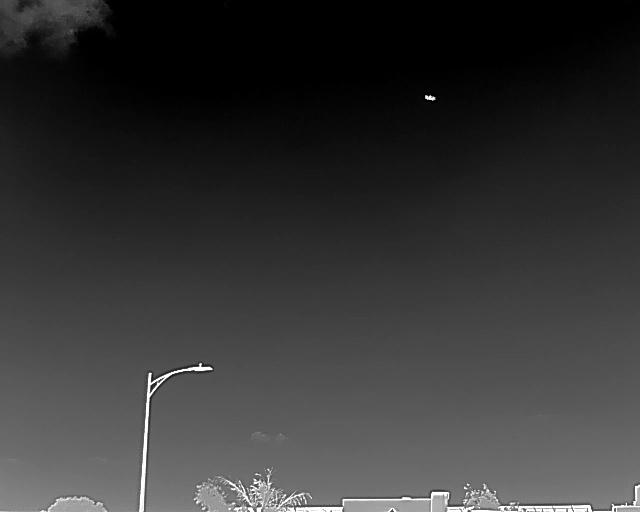fpv-drone: (424, 94, 436, 101)
